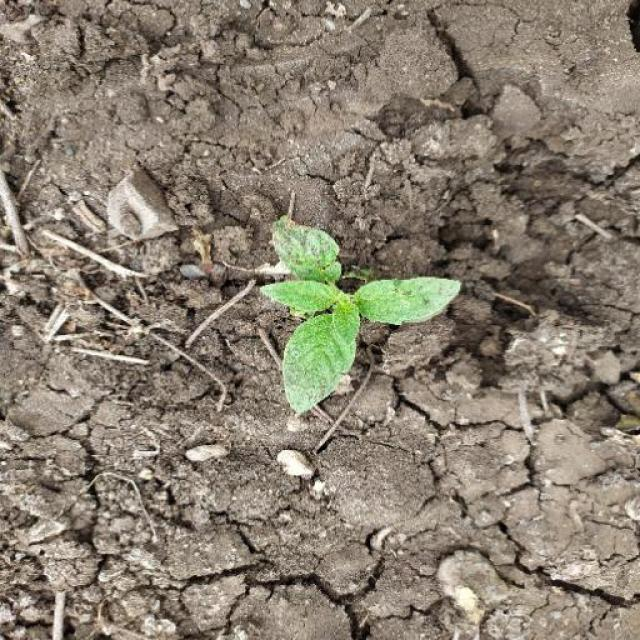crop: (235, 226, 459, 439)
